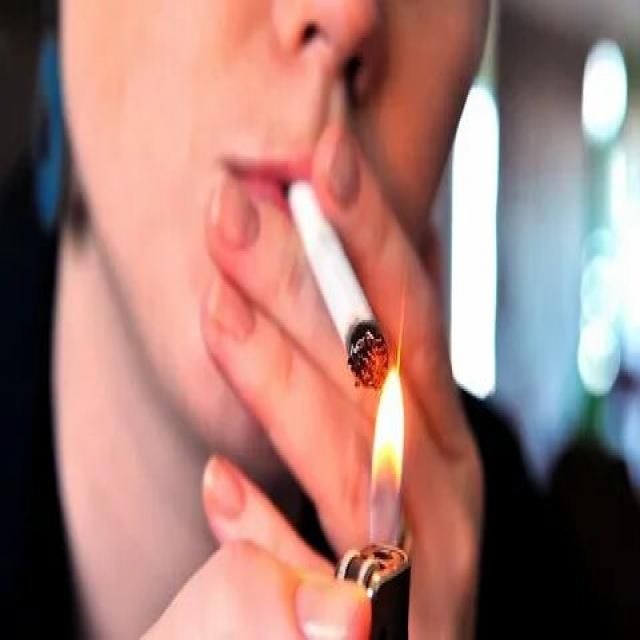cigarette: (285, 171, 395, 410)
